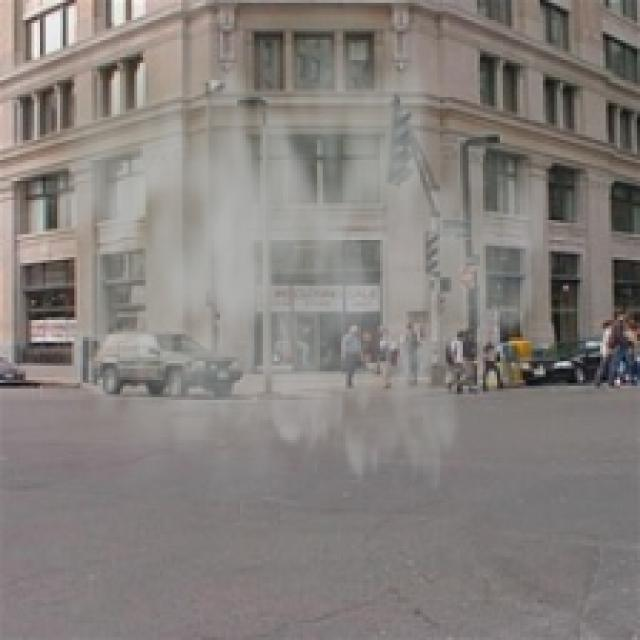Smoke: (20, 6, 543, 540)
